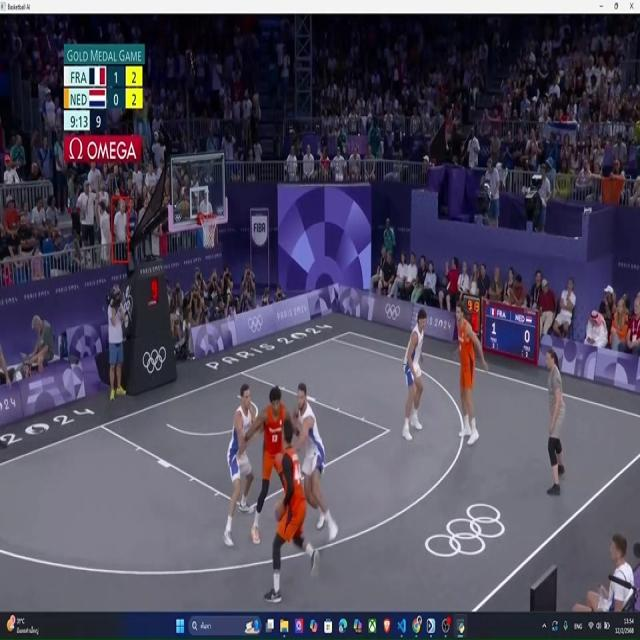basketball: (273, 499, 285, 522)
hoop: (200, 209, 218, 249)
